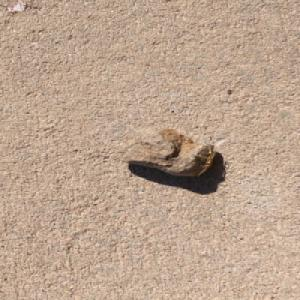Rock: (108, 125, 217, 177)
